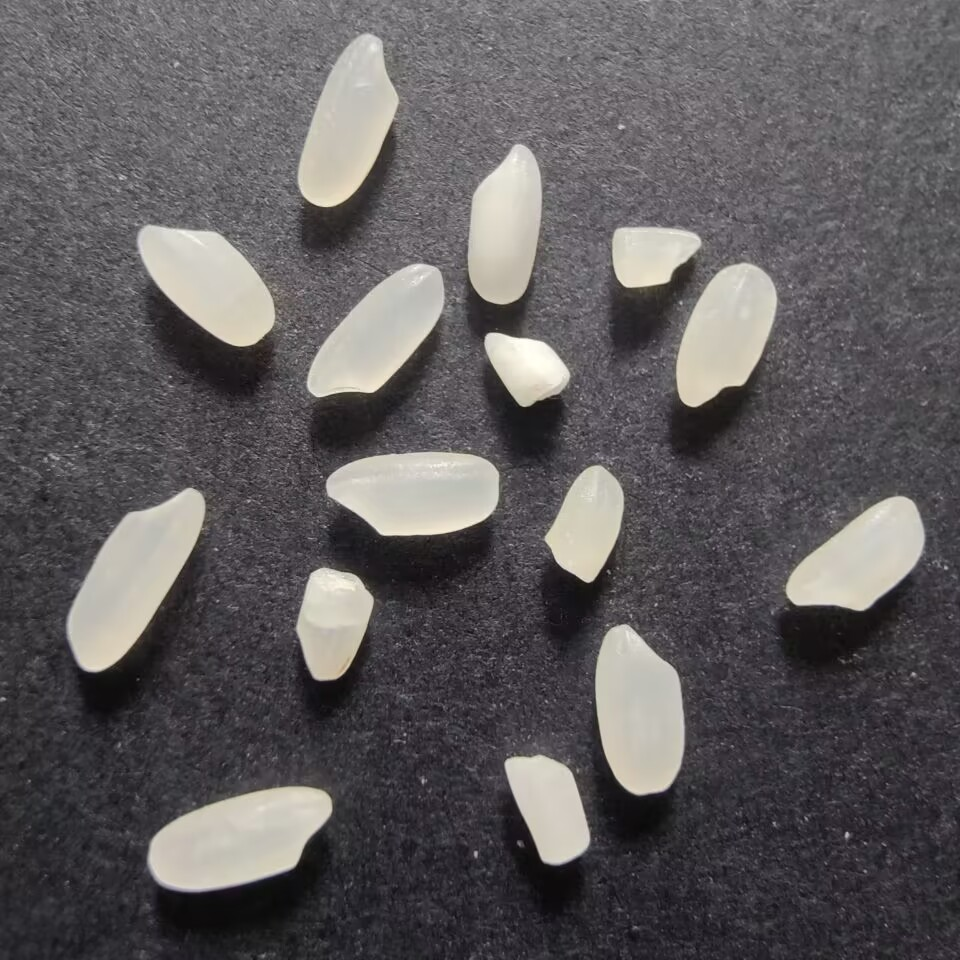broken: (535, 460, 626, 586), (293, 560, 381, 687), (499, 750, 594, 867), (480, 325, 576, 414), (608, 218, 705, 295)
rice: (57, 480, 208, 677), (142, 780, 335, 900), (300, 257, 450, 400), (132, 214, 280, 357), (293, 25, 404, 206), (775, 490, 931, 612), (590, 615, 691, 801), (670, 257, 783, 409), (321, 450, 507, 539), (463, 136, 547, 311)
